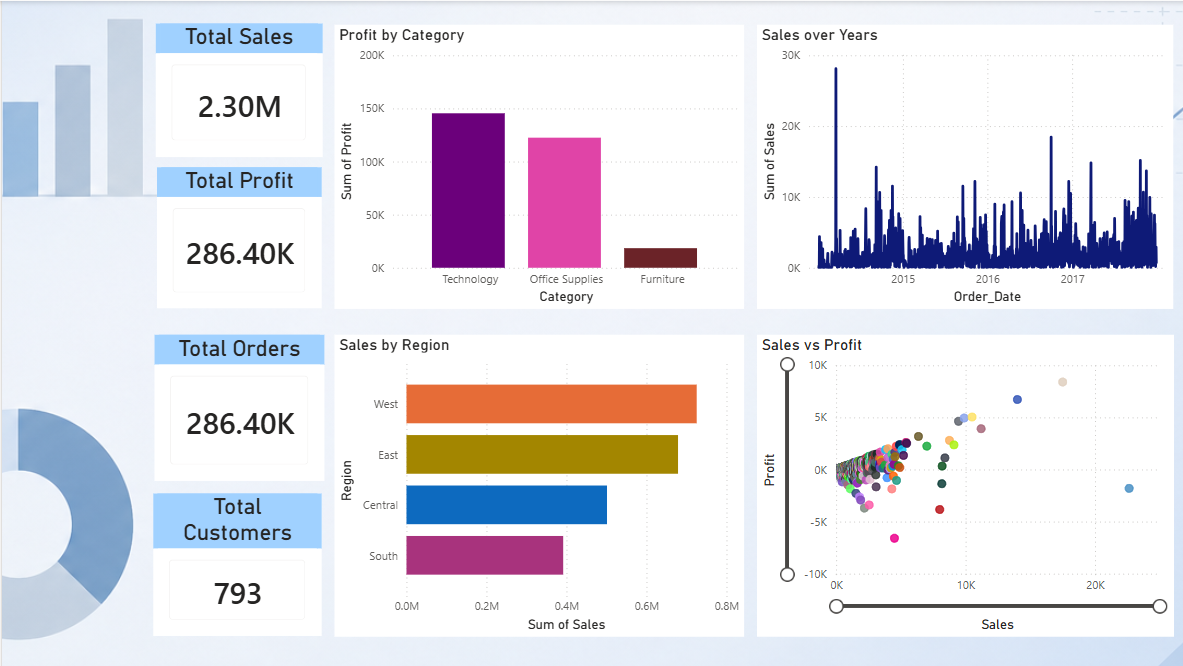

This screenshot's page, from the dashboard's own definition file:
{"tool":"powerbi","page":{"name":"Executive Overview","canvas":[1280,720],"ordinal":0},"visuals":[{"type":"cardVisual","title":"Total Sales","fields":{"Data":["powerbi_dataset.Total Sales"]},"box":[166,24.7,179.8,144.1],"z":0},{"type":"cardVisual","title":"Total Profit","fields":{"Data":["powerbi_dataset.Total Profit"]},"box":[167.1,179.2,177.9,152.3],"z":1000},{"type":"cardVisual","title":"Total Orders","fields":{"Data":["powerbi_dataset.Total Profit"]},"box":[164.4,359.8,183.3,157.7],"z":2000},{"type":"cardVisual","title":"Total Customers","fields":{"Data":["powerbi_dataset.Total Customers"]},"box":[163.1,531,181.9,153.6],"z":3000},{"type":"clusteredBarChart","title":"Sales by Region","fields":{"Category":["powerbi_dataset.Region"],"Y":["Sum(powerbi_dataset.Sales)"]},"box":[358.1,359.5,441.9,325.2],"z":4000},{"type":"clusteredColumnChart","title":"Profit by Category","fields":{"Category":["powerbi_dataset.Category"],"Y":["Sum(powerbi_dataset.Profit)"]},"box":[358.1,26.1,441.9,306],"z":5000},{"type":"lineChart","title":"Sales over Years","fields":{"Category":["powerbi_dataset.Order_Date"],"Y":["Sum(powerbi_dataset.Sales)"]},"box":[813.7,26.1,448.7,306],"z":6000},{"type":"scatterChart","title":"Sales vs Profit","fields":{"X":["powerbi_dataset.Sales"],"Y":["powerbi_dataset.Profit"]},"box":[814,359.8,448.8,324.8],"z":6001}]}

Visuals, with their boxes in screenshot pixels (x1, y1, x2, y2), scaled from the page's 1280x720 canvas onto the 1183x666 screenshot:
"Total Sales" cardVisual: select_region(153, 23, 320, 156)
"Total Profit" cardVisual: select_region(154, 166, 319, 307)
"Total Orders" cardVisual: select_region(152, 333, 321, 479)
"Total Customers" cardVisual: select_region(151, 491, 319, 633)
"Sales by Region" clusteredBarChart: select_region(331, 333, 739, 633)
"Profit by Category" clusteredColumnChart: select_region(331, 24, 739, 307)
"Sales over Years" lineChart: select_region(752, 24, 1167, 307)
"Sales vs Profit" scatterChart: select_region(752, 333, 1167, 633)
